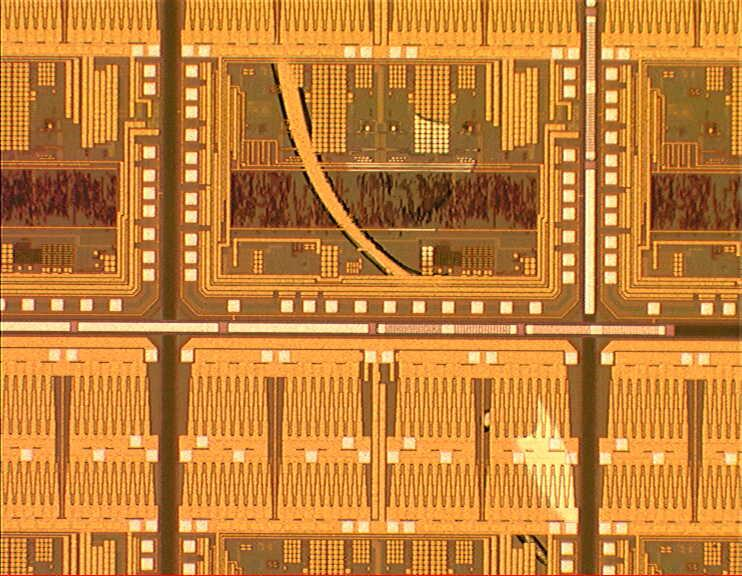COATING BAD: (248, 1, 600, 576)
